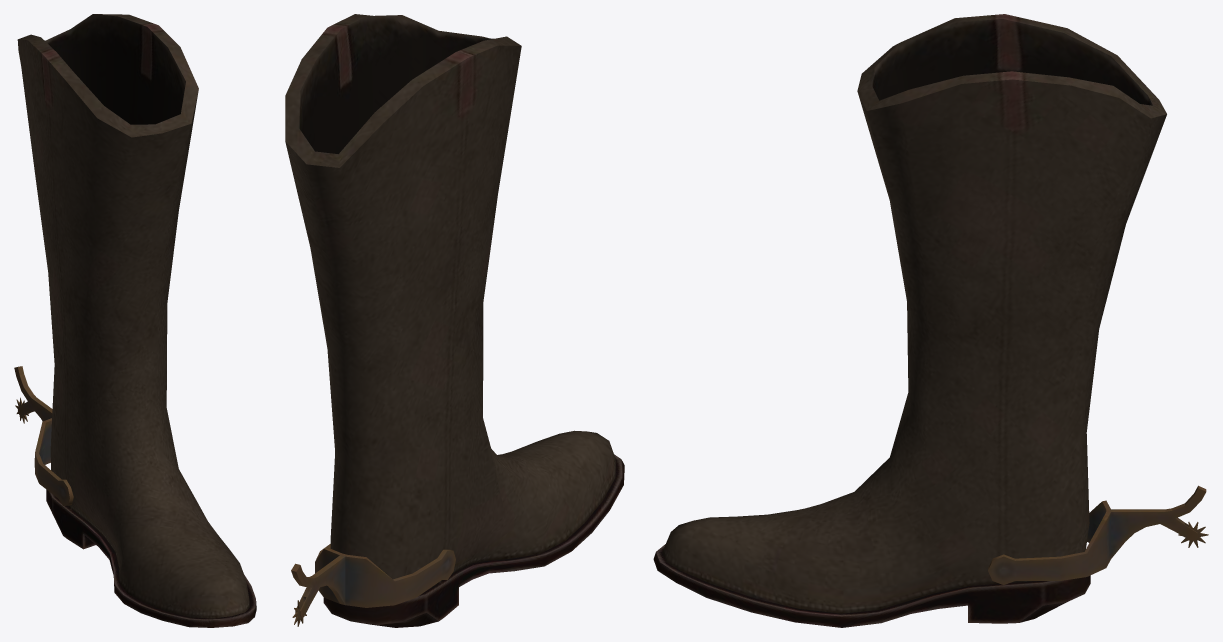
The model's file is boots.glb.
The picture shows the model from 3 angles, left to right: view 1: azimuth 30°, elevation 25°; view 2: azimuth 150°, elevation 25°; view 3: azimuth 270°, elevation 25°; orthographic projection. The views are drawn at different scales.
Parts seen in each view (by area): view 1: Cowboy_shoe_lo; view 2: Cowboy_shoe_lo; view 3: Cowboy_shoe_lo.
Part boxes in pixels (left/top/right/bottom): Cowboy_shoe_lo: left=14, top=14, right=256, bottom=627; Cowboy_shoe_lo: left=285, top=14, right=624, bottom=627; Cowboy_shoe_lo: left=653, top=14, right=1208, bottom=627.
Bounding box in the file's own units: 0.00428 × 0.0163 × 0.0148.
1 material, 1 textured.
